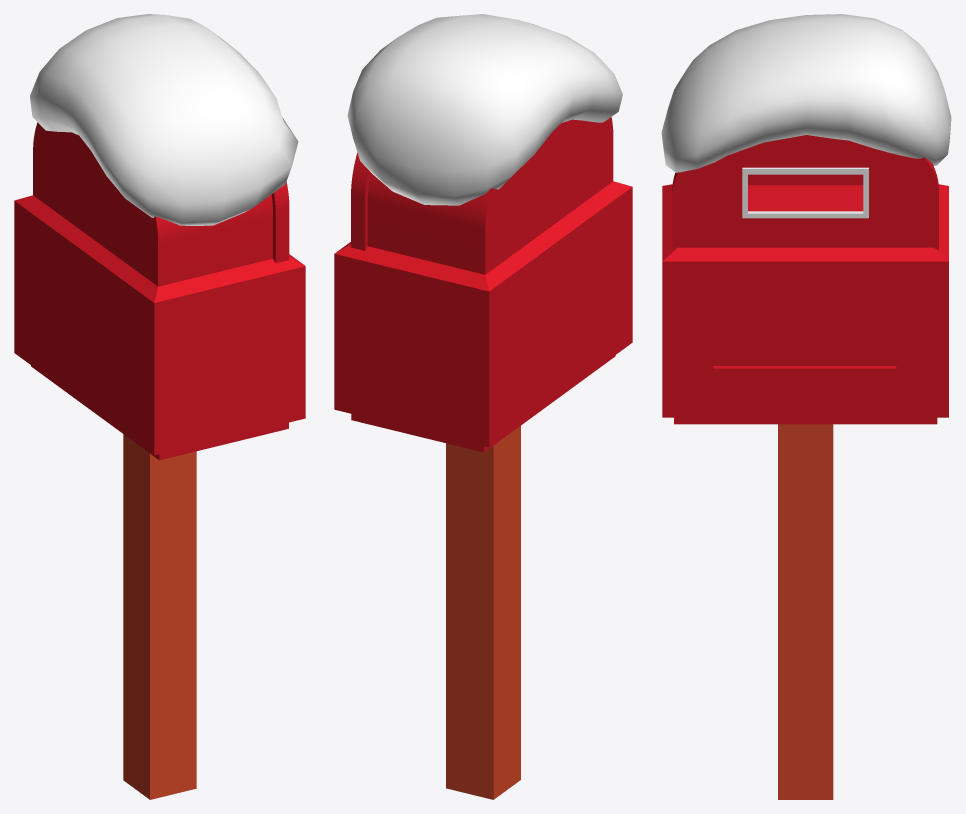
Rendered from Postfach_Kikl.fbx.
3 renders of one model, left to right at view 1: azimuth 30°, elevation 25°; view 2: azimuth 150°, elevation 25°; view 3: azimuth 270°, elevation 25°, orthographic. The views are drawn at different scales.
Parts seen in each view (by area): view 1: Cube, Cube.003, Cube.002; view 2: Cube, Cube.003, Cube.002; view 3: Cube, Cube.003, Cube.002, Cube.001.
Part boxes in pixels (x1=…): Cube: x1=14, y1=122, x2=305, y2=460; Cube.003: x1=30, y1=14, x2=298, y2=225; Cube.002: x1=123, y1=434, x2=196, y2=799; Cube: x1=334, y1=117, x2=632, y2=452; Cube.003: x1=347, y1=14, x2=622, y2=205; Cube.002: x1=446, y1=426, x2=520, y2=799; Cube: x1=662, y1=135, x2=948, y2=424; Cube.003: x1=661, y1=14, x2=951, y2=172; Cube.002: x1=778, y1=424, x2=833, y2=799; Cube.001: x1=742, y1=167, x2=868, y2=218.
Size of the model in its own units: 142 by 565 by 196.
